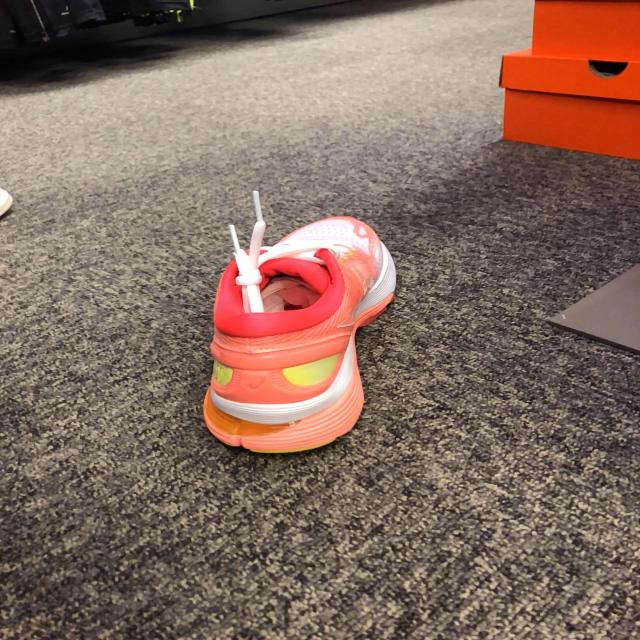shoe: (203, 199, 398, 456)
